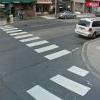Crosswalk: (16, 25, 70, 75)
